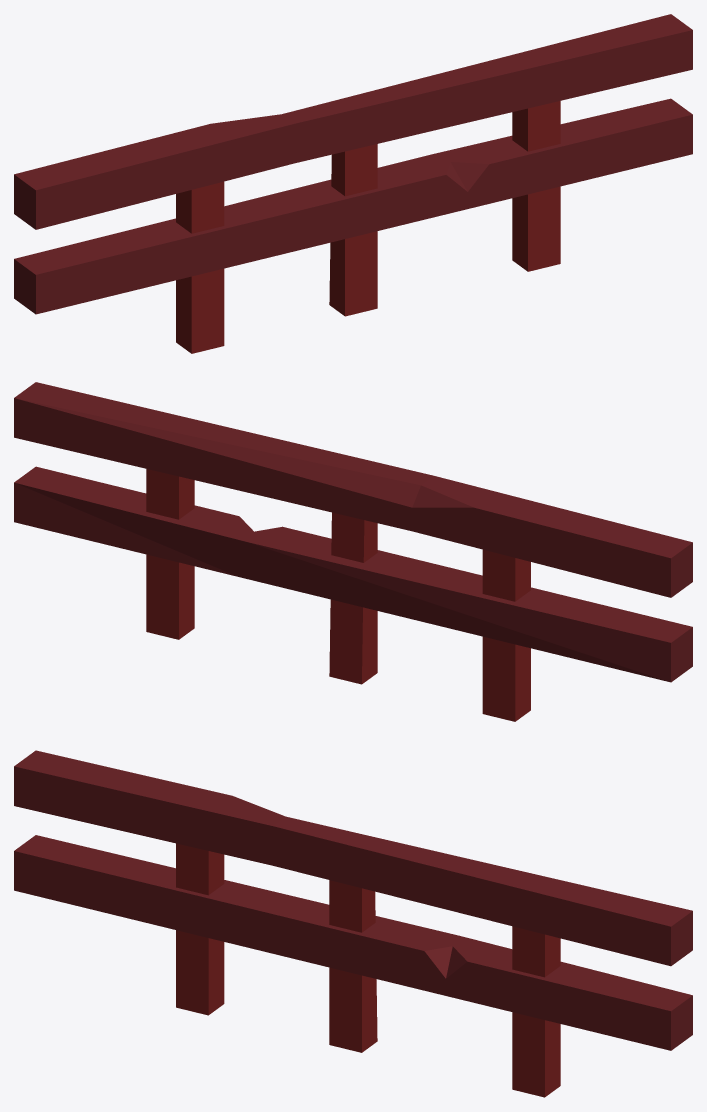
Rendered from Fence_2_2 Asia.fbx.
3 views of the same model, one above another, from view 1: azimuth 30°, elevation 25°; view 2: azimuth 150°, elevation 25°; view 3: azimuth 330°, elevation 25° (orthographic).
Parts seen in each view (by area): view 1: Fence_2_2; view 2: Fence_2_2; view 3: Fence_2_2.
Boxes of the visible parts, x1,y1,x2,y2 form: Fence_2_2: [14, 14, 692, 353]; Fence_2_2: [14, 382, 692, 721]; Fence_2_2: [14, 750, 692, 1097].
Size of the model in its own units: 2.51 by 0.7595 by 0.1621.
